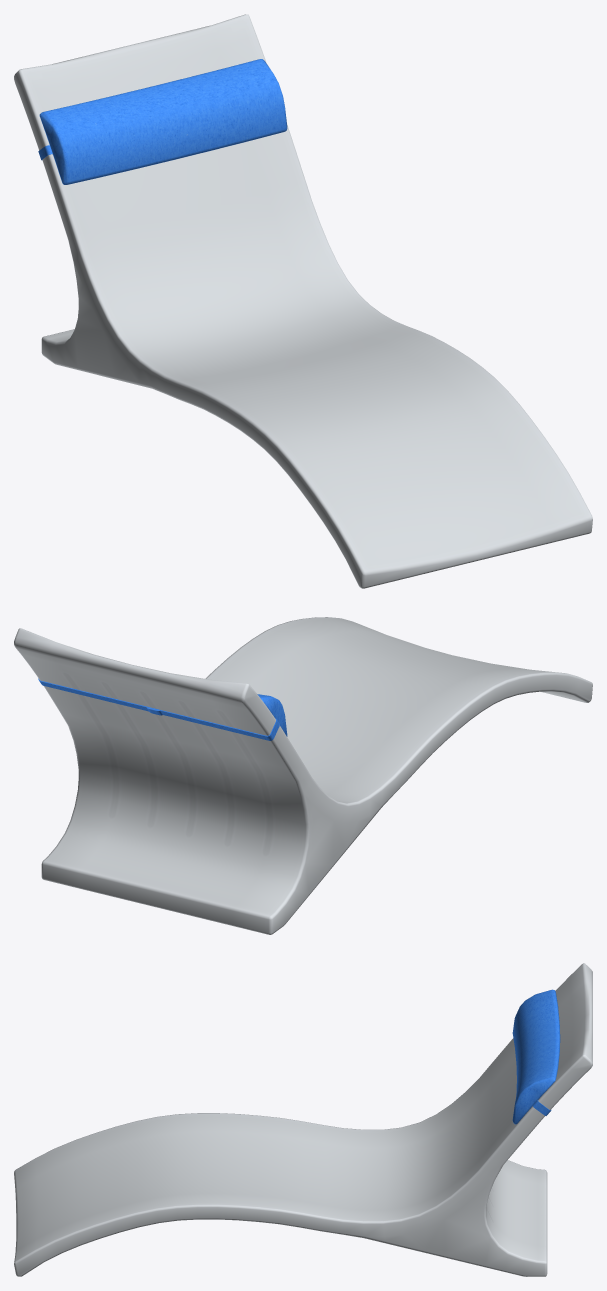
File: PoolLounger01_1.FBX
3 views of the same model, one above another, from view 1: azimuth 30°, elevation 25°; view 2: azimuth 150°, elevation 25°; view 3: azimuth 270°, elevation 25° (orthographic). The views are drawn at different scales.
Parts seen in each view (by area): view 1: PoolLounger01_1; view 2: PoolLounger01_1; view 3: PoolLounger01_1.
Part boxes in pixels (x1=…): PoolLounger01_1: x1=14, y1=14, x2=592, y2=588; PoolLounger01_1: x1=14, y1=617, x2=592, y2=934; PoolLounger01_1: x1=14, y1=963, x2=592, y2=1276.
Size of what is drawn, in the model's own units: 0.6403 by 0.7075 by 1.67.
